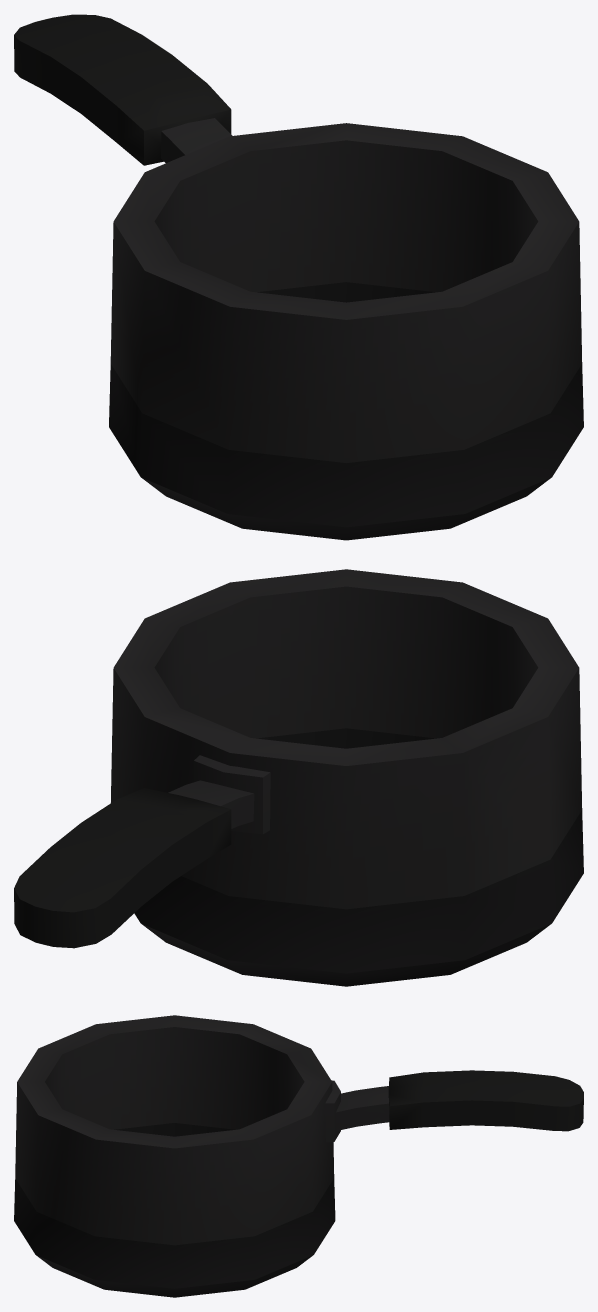
File: Saucepan_01_Burnt.fbx
The picture shows the model from 3 angles, top to bottom: view 1: azimuth 30°, elevation 25°; view 2: azimuth 150°, elevation 25°; view 3: azimuth 270°, elevation 25°; orthographic projection. The views are drawn at different scales.
Visible parts, largest first — view 1: Saucepan_01_Burnt; view 2: Saucepan_01_Burnt; view 3: Saucepan_01_Burnt.
Part boxes in pixels (<box>): Saucepan_01_Burnt: <box>14,14,583,540</box>; Saucepan_01_Burnt: <box>14,569,583,986</box>; Saucepan_01_Burnt: <box>14,1015,583,1297</box>.
Bounding box in the file's own units: 78.26 × 41.99 × 139.
